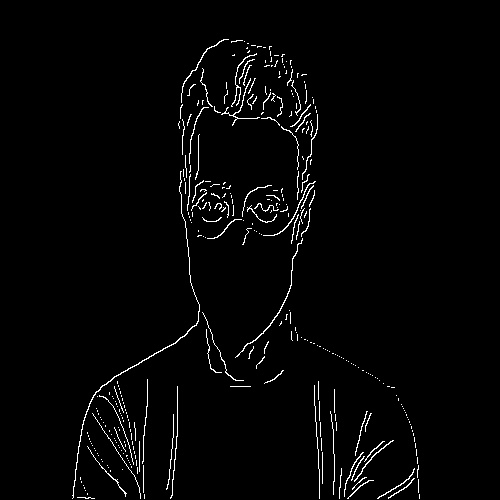mask: (179, 211, 311, 369)
